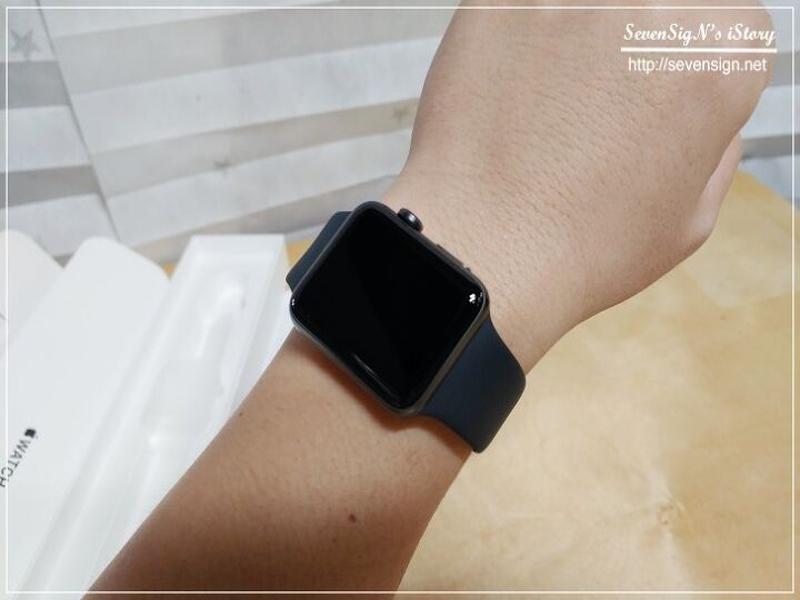watch: (282, 201, 527, 455)
